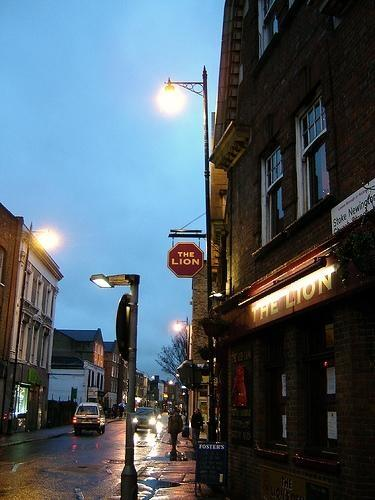car: (72, 401, 107, 436), (133, 408, 156, 434), (154, 408, 162, 422)
